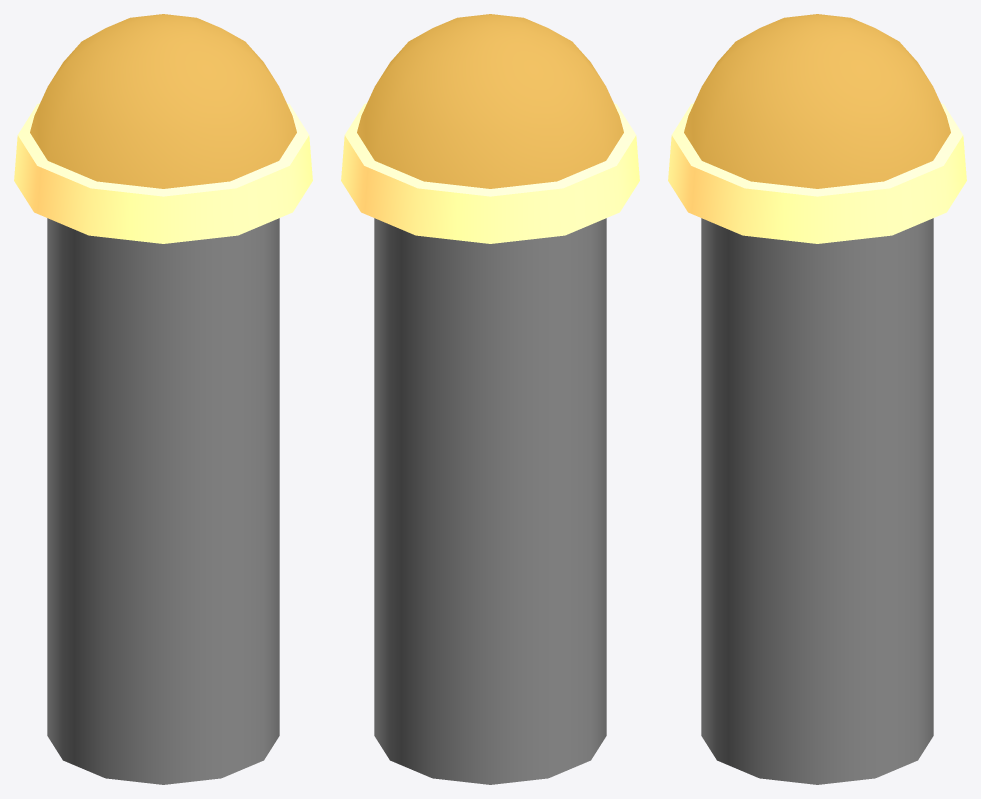
Rendered from Lamp.fbx.
3 views of the same model, side by side, from view 1: azimuth 30°, elevation 25°; view 2: azimuth 150°, elevation 25°; view 3: azimuth 270°, elevation 25° (orthographic).
Visible parts, largest first — view 1: Lamp; view 2: Lamp; view 3: Lamp.
Part boxes in pixels (<box>): Lamp: <box>14,14,312,784</box>; Lamp: <box>341,14,639,784</box>; Lamp: <box>668,14,966,784</box>.
Bounding box in the file's own units: 80.88 × 212 × 80.88.
